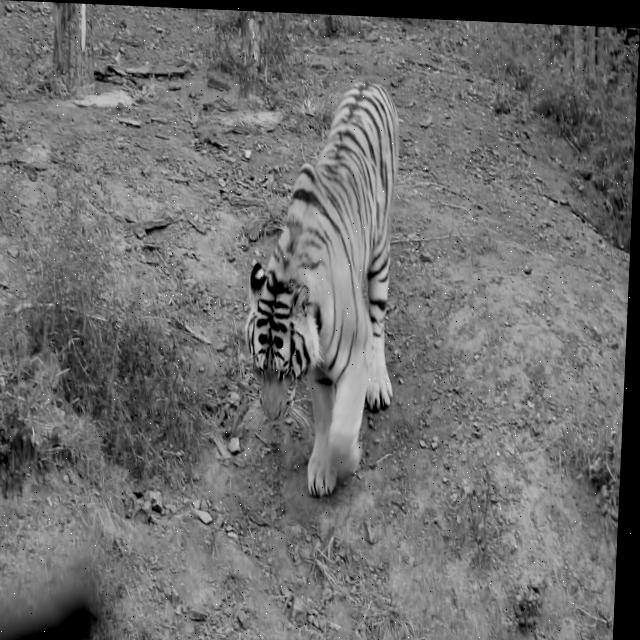Tiger: (237, 74, 407, 501)
